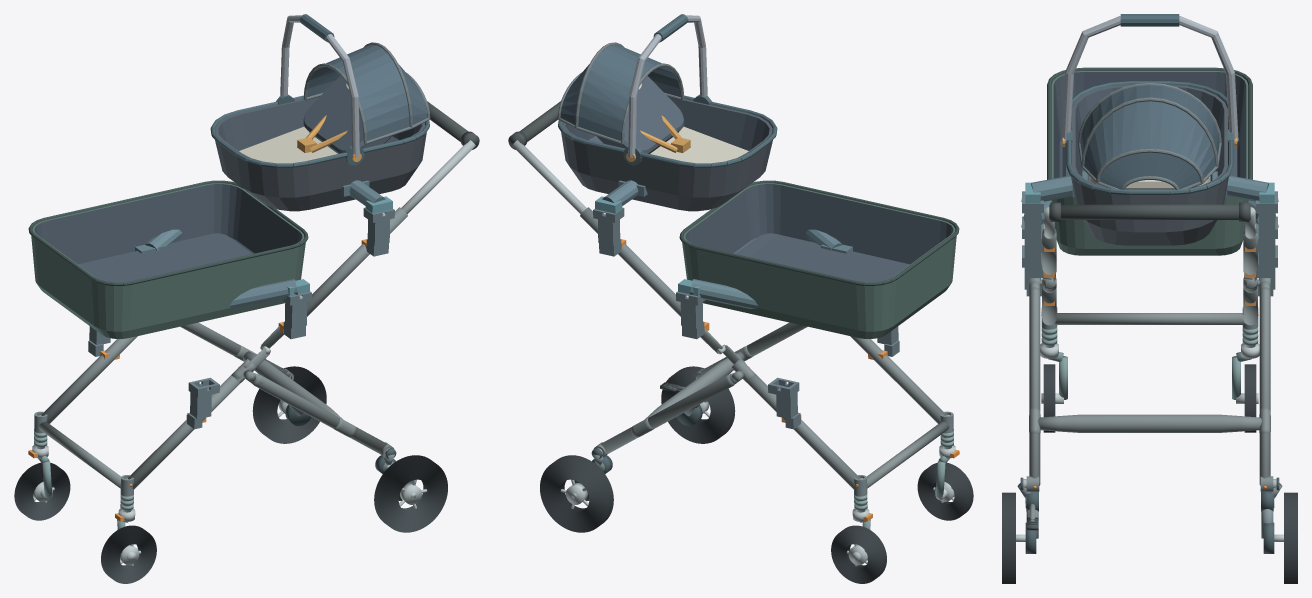
File: D10_w550_state1_wheel_S.glb
3 renders of one model, left to right at view 1: azimuth 30°, elevation 25°; view 2: azimuth 150°, elevation 25°; view 3: azimuth 270°, elevation 25°, orthographic. The views are drawn at different scales.
Visible parts, largest first — view 1: D10_Lower, D10_Upper, RL_tire.002, RR_tire.002, FL_tire.002, FR_tire.002, D10_Lower_Mount_M, V46_rear_leg_-1.003, main_lower_-1.003, main_lower_1.003, main_upper_-1.003, Universal_Cabin_Receiver_L_-1 (+8 smaller); view 2: D10_Lower, D10_Upper, RR_tire.002, RL_tire.002, FR_tire.002, FL_tire.002, D10_Lower_Mount_M, V46_rear_leg_1.003, main_lower_1.003, main_lower_-1.003, main_upper_1.003, Universal_Cabin_Receiver_L_1 (+8 smaller); view 3: D10_Upper, D10_Lower, V46_rearbar.003, round_handle.002, front_fixed_round_tube.002, D10_Upper_Mount_H, V46_rear_leg_1.003, V46_rear_leg_-1.003, RL_tire.002, RR_tire.002, Universal_Cabin_Receiver_H_1, Universal_Cabin_Receiver_H_-1 (+8 smaller).
Part boxes in pixels (left/top/right/bottom): D10_Lower: left=28, top=180, right=308, bottom=338; D10_Upper: left=210, top=14, right=430, bottom=211; RL_tire.002: left=374, top=455, right=447, bottom=532; RR_tire.002: left=252, top=366, right=326, bottom=443; FL_tire.002: left=101, top=525, right=156, bottom=583; FR_tire.002: left=14, top=462, right=70, bottom=520; D10_Lower_Mount_M: left=135, top=229, right=309, bottom=308; V46_rear_leg_-1.003: left=252, top=374, right=386, bottom=454; main_lower_-1.003: left=128, top=375, right=243, bottom=489; main_lower_1.003: left=41, top=336, right=137, bottom=423; main_upper_-1.003: left=284, top=207, right=407, bottom=321; Universal_Cabin_Receiver_L_-1: left=187, top=377, right=219, bottom=429; D10_Lower: left=679, top=180, right=959, bottom=338; D10_Upper: left=557, top=14, right=777, bottom=211; RR_tire.002: left=540, top=455, right=613, bottom=532; RL_tire.002: left=661, top=366, right=735, bottom=443; FR_tire.002: left=831, top=525, right=886, bottom=583; FL_tire.002: left=917, top=462, right=973, bottom=520; D10_Lower_Mount_M: left=678, top=229, right=852, bottom=308; V46_rear_leg_1.003: left=601, top=374, right=735, bottom=454; main_lower_1.003: left=744, top=375, right=859, bottom=489; main_lower_-1.003: left=850, top=336, right=946, bottom=423; main_upper_1.003: left=580, top=207, right=703, bottom=321; Universal_Cabin_Receiver_L_1: left=768, top=377, right=800, bottom=429; D10_Upper: left=1061, top=14, right=1238, bottom=245; D10_Lower: left=1047, top=67, right=1252, bottom=255; V46_rearbar.003: left=1038, top=414, right=1261, bottom=432; round_handle.002: left=1049, top=204, right=1250, bottom=219; front_fixed_round_tube.002: left=1055, top=313, right=1244, bottom=324; D10_Upper_Mount_H: left=1021, top=171, right=1278, bottom=203; V46_rear_leg_1.003: left=1259, top=287, right=1270, bottom=485; V46_rear_leg_-1.003: left=1029, top=287, right=1040, bottom=485; RL_tire.002: left=1002, top=492, right=1015, bottom=583; RR_tire.002: left=1284, top=492, right=1297, bottom=583; Universal_Cabin_Receiver_H_1: left=1256, top=191, right=1277, bottom=252; Universal_Cabin_Receiver_H_-1: left=1022, top=191, right=1043, bottom=252.
Bounding box in the file's own units: 1.11 × 1.32 × 0.6471.
